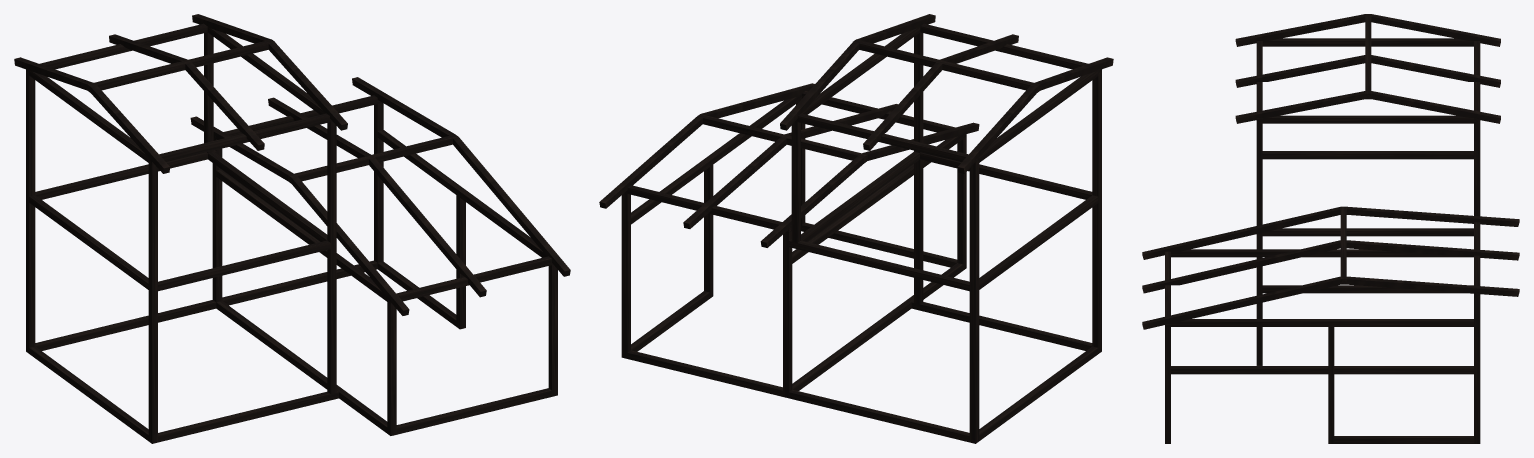
Rendered from h2_skeleton_00.fbx.
The picture shows the model from 3 angles, left to right: view 1: azimuth 30°, elevation 25°; view 2: azimuth 150°, elevation 25°; view 3: azimuth 270°, elevation 25°; orthographic projection. The views are drawn at different scales.
Parts seen in each view (by area): view 1: Pillar.005, Pillar.006, Pillar.004, Pillar.034, Pillar.002, Pillar.036, Pillar.013, Pillar.021, Pillar.028, Pillar.023, Pillar.014, Pillar.035 (+30 smaller); view 2: Pillar.004, Pillar.005, Pillar.006, Pillar.034, Pillar.002, Pillar.035, Pillar.008, Pillar.021, Pillar.036, Pillar.016, Pillar.001, Pillar.013 (+29 smaller); view 3: Pillar.034, Pillar.002, Pillar.015, Pillar.013, Pillar.017, Pillar.018, Pillar.011, Pillar.028, Pillar.023, Pillar.025, Pillar.029, Pillar.026 (+19 smaller).
Part boxes in pixels (x1=…): Pillar.005: x1=148, y1=163, x2=157, y2=443; Pillar.006: x1=327, y1=121, x2=336, y2=393; Pillar.004: x1=26, y1=73, x2=35, y2=353; Pillar.034: x1=216, y1=301, x2=387, y2=433; Pillar.002: x1=377, y1=130, x2=553, y2=264; Pillar.036: x1=158, y1=391, x2=338, y2=442; Pillar.013: x1=216, y1=169, x2=391, y2=304; Pillar.021: x1=87, y1=39, x2=274, y2=92; Pillar.028: x1=369, y1=157, x2=486, y2=297; Pillar.023: x1=453, y1=137, x2=570, y2=276; Pillar.014: x1=158, y1=240, x2=330, y2=291; Pillar.035: x1=35, y1=300, x2=216, y2=350; Pillar.004: x1=969, y1=163, x2=979, y2=443; Pillar.005: x1=1092, y1=73, x2=1101, y2=353; Pillar.006: x1=914, y1=32, x2=923, y2=304; Pillar.034: x1=792, y1=263, x2=963, y2=390; Pillar.002: x1=631, y1=93, x2=801, y2=224; Pillar.035: x1=789, y1=389, x2=969, y2=442; Pillar.008: x1=789, y1=239, x2=969, y2=291; Pillar.021: x1=853, y1=39, x2=1040, y2=92; Pillar.036: x1=911, y1=301, x2=1092, y2=350; Pillar.016: x1=795, y1=113, x2=979, y2=165; Pillar.001: x1=621, y1=193, x2=630, y2=358; Pillar.013: x1=792, y1=130, x2=966, y2=263; Pillar.034: x1=1171, y1=366, x2=1473, y2=374; Pillar.002: x1=1165, y1=319, x2=1473, y2=326; Pillar.015: x1=1262, y1=151, x2=1473, y2=159; Pillar.013: x1=1171, y1=249, x2=1469, y2=257; Pillar.017: x1=1262, y1=115, x2=1473, y2=123; Pillar.018: x1=1262, y1=228, x2=1473, y2=236; Pillar.011: x1=1262, y1=38, x2=1473, y2=46; Pillar.028: x1=1142, y1=240, x2=1340, y2=293; Pillar.023: x1=1142, y1=276, x2=1340, y2=329; Pillar.025: x1=1142, y1=207, x2=1340, y2=259; Pillar.029: x1=1346, y1=240, x2=1519, y2=260; Pillar.026: x1=1346, y1=206, x2=1519, y2=226.
Size of the model in its own units: 903 by 761 by 940.
